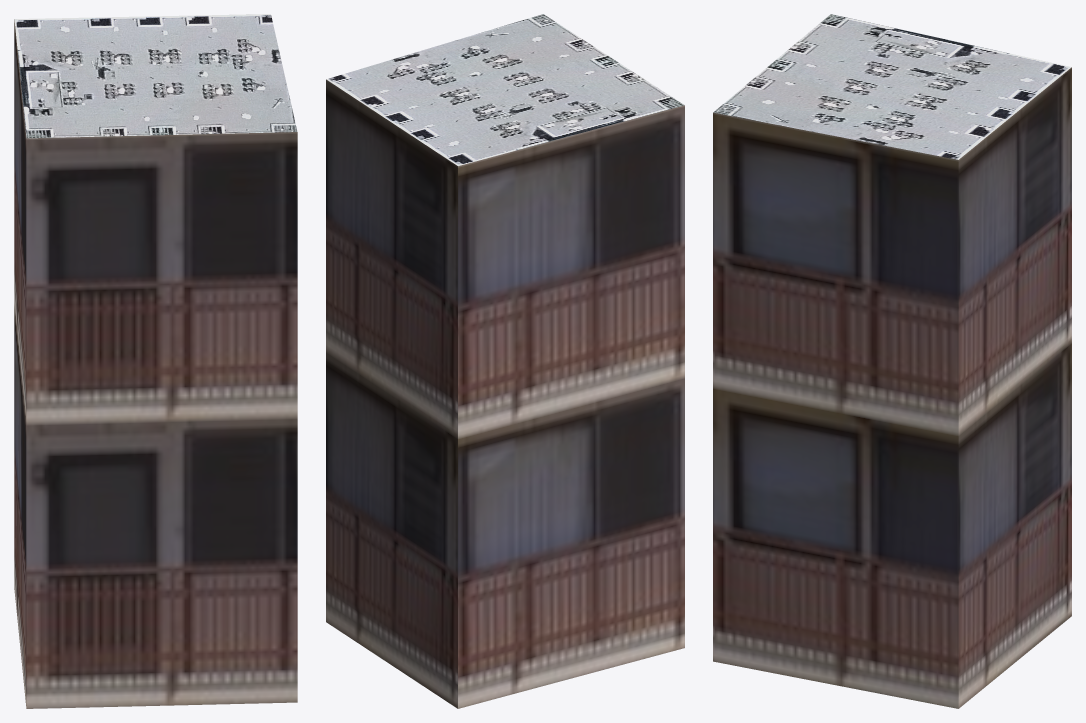
Rendered from ResTex__2479.fbx.
3 views of the same model, side by side, from view 1: azimuth 30°, elevation 25°; view 2: azimuth 150°, elevation 25°; view 3: azimuth 270°, elevation 25° (orthographic). The views are drawn at different scales.
Visible parts, largest first — view 1: CityEngineMaterial_6_m, CityEngineMaterial_2_m; view 2: CityEngineMaterial_6_m, CityEngineMaterial_2_m; view 3: CityEngineMaterial_6_m, CityEngineMaterial_2_m.
Part boxes in pixels (box(x1,y1,x2,y2)): CityEngineMaterial_6_m: box(14, 19, 297, 708); CityEngineMaterial_2_m: box(14, 14, 297, 138); CityEngineMaterial_6_m: box(326, 79, 684, 708); CityEngineMaterial_2_m: box(326, 14, 684, 165); CityEngineMaterial_6_m: box(713, 67, 1071, 708); CityEngineMaterial_2_m: box(713, 14, 1071, 159).
Bounding box in the file's own units: 3.42 × 6 × 3.55.
2 materials, 2 textured.
